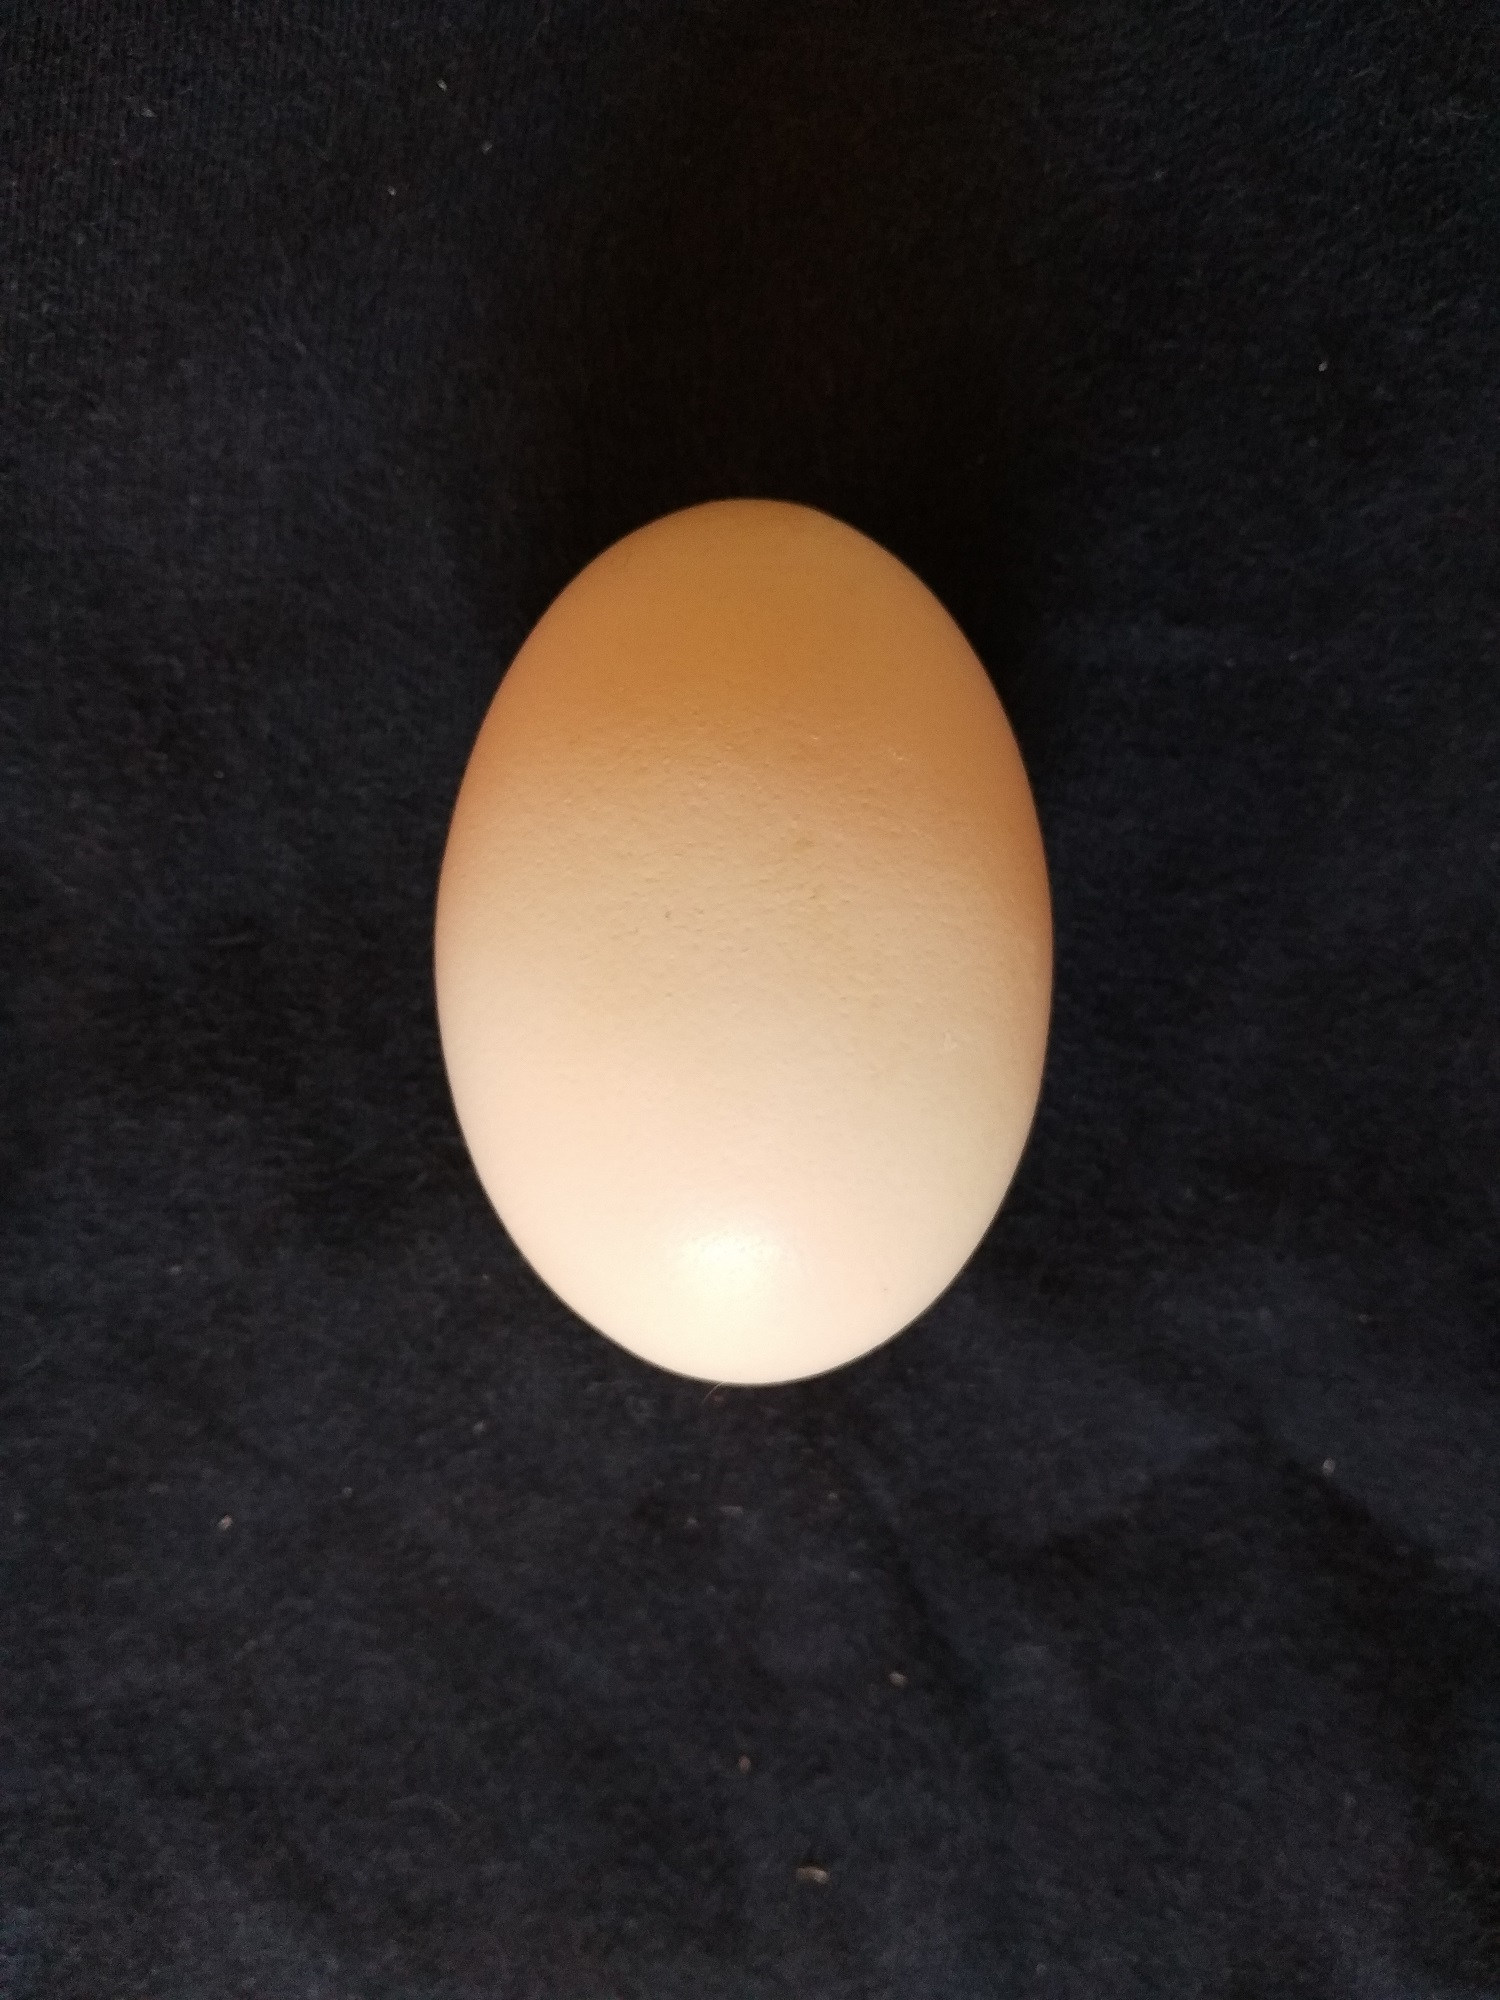Male: (422, 491, 1064, 1394)
